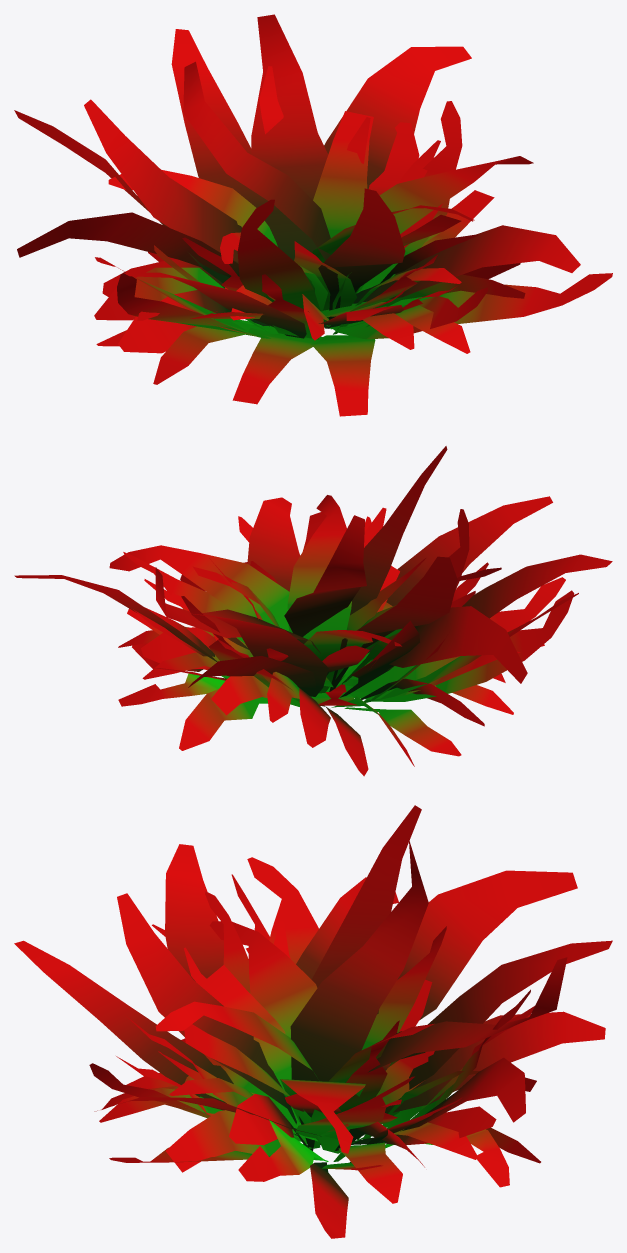
The model's file is Var2_LOD2.fbx.
3 renders of one model, top to bottom at view 1: azimuth 30°, elevation 25°; view 2: azimuth 150°, elevation 25°; view 3: azimuth 270°, elevation 25°, orthographic. The views are drawn at different scales.
Visible parts, largest first — view 1: _befa_Var2_LOD2; view 2: _befa_Var2_LOD2; view 3: _befa_Var2_LOD2.
Boxes of the visible parts, box(x1,y1,x2,y2) form: _befa_Var2_LOD2: box(14, 14, 612, 416); _befa_Var2_LOD2: box(14, 446, 612, 776); _befa_Var2_LOD2: box(14, 805, 612, 1238).
Size of the model in its own units: 15.18 by 7.37 by 14.84.
